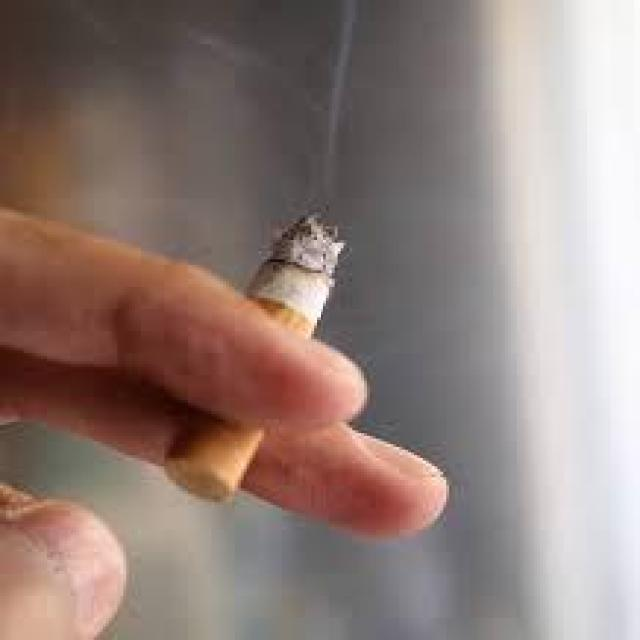cigarette: (244, 215, 346, 342), (161, 419, 264, 505)
